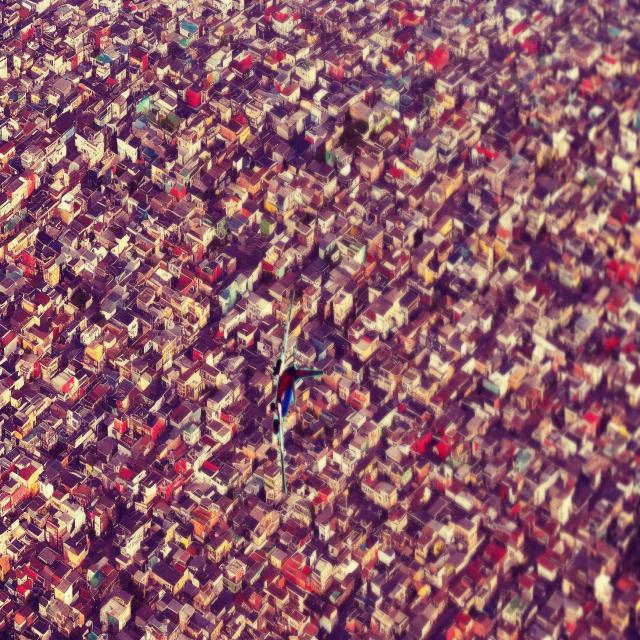airplane: (269, 288, 323, 494)
